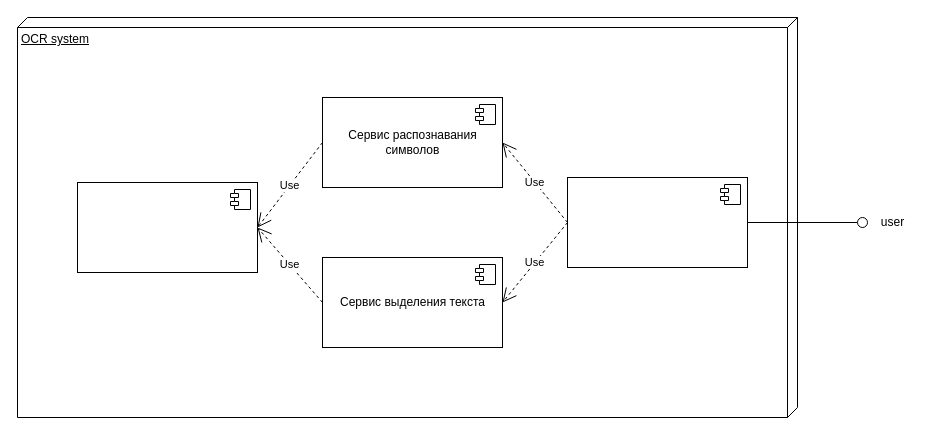
Some shapes in this 935 by 435 pixel diagram are drawn without their labels. Here are the shapes that lost their labels. From the top down, the centre of each, then its label:
the point at 167,227: BD (Postgres)
the point at 657,222: http-server (Flask)
